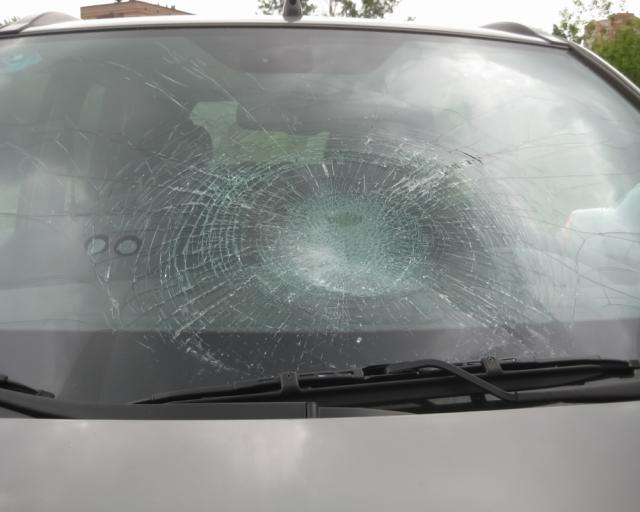glass shatter: (0, 28, 640, 403)
